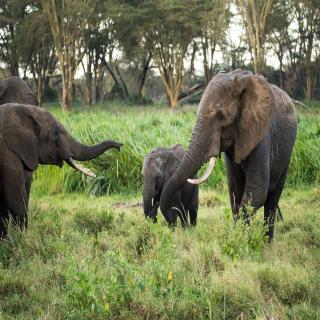Elephant: (160, 69, 320, 258), (0, 96, 124, 243), (137, 136, 201, 232)
